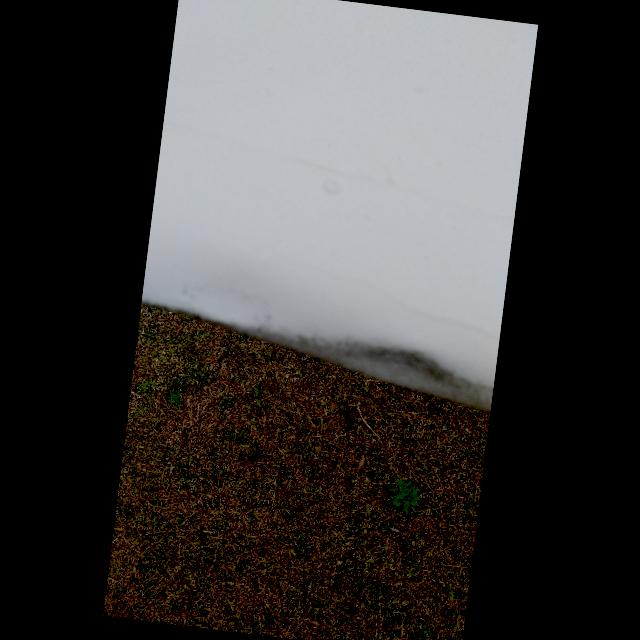dent: (332, 332, 466, 402)
